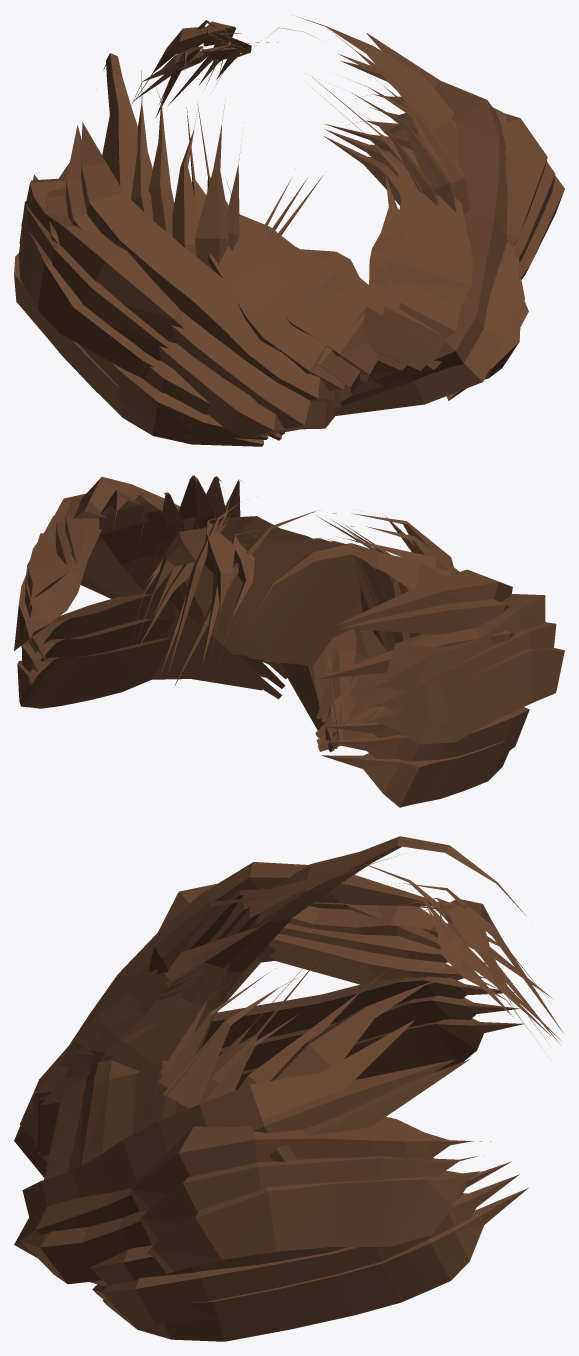
File: PeinadoDensoEtapa3.fbx
3 renders of one model, top to bottom at view 1: azimuth 30°, elevation 25°; view 2: azimuth 150°, elevation 25°; view 3: azimuth 270°, elevation 25°, orthographic. The views are drawn at different scales.
Parts seen in each view (by area): view 1: PeinadoDensoEtapa3; view 2: PeinadoDensoEtapa3; view 3: PeinadoDensoEtapa3.
Part boxes in pixels (left/top/right/bottom): PeinadoDensoEtapa3: left=14, top=16, right=564, bottom=446; PeinadoDensoEtapa3: left=14, top=475, right=564, bottom=807; PeinadoDensoEtapa3: left=14, top=836, right=563, bottom=1341.
Bounding box in the file's own units: 1.54 × 0.9462 × 1.24.
